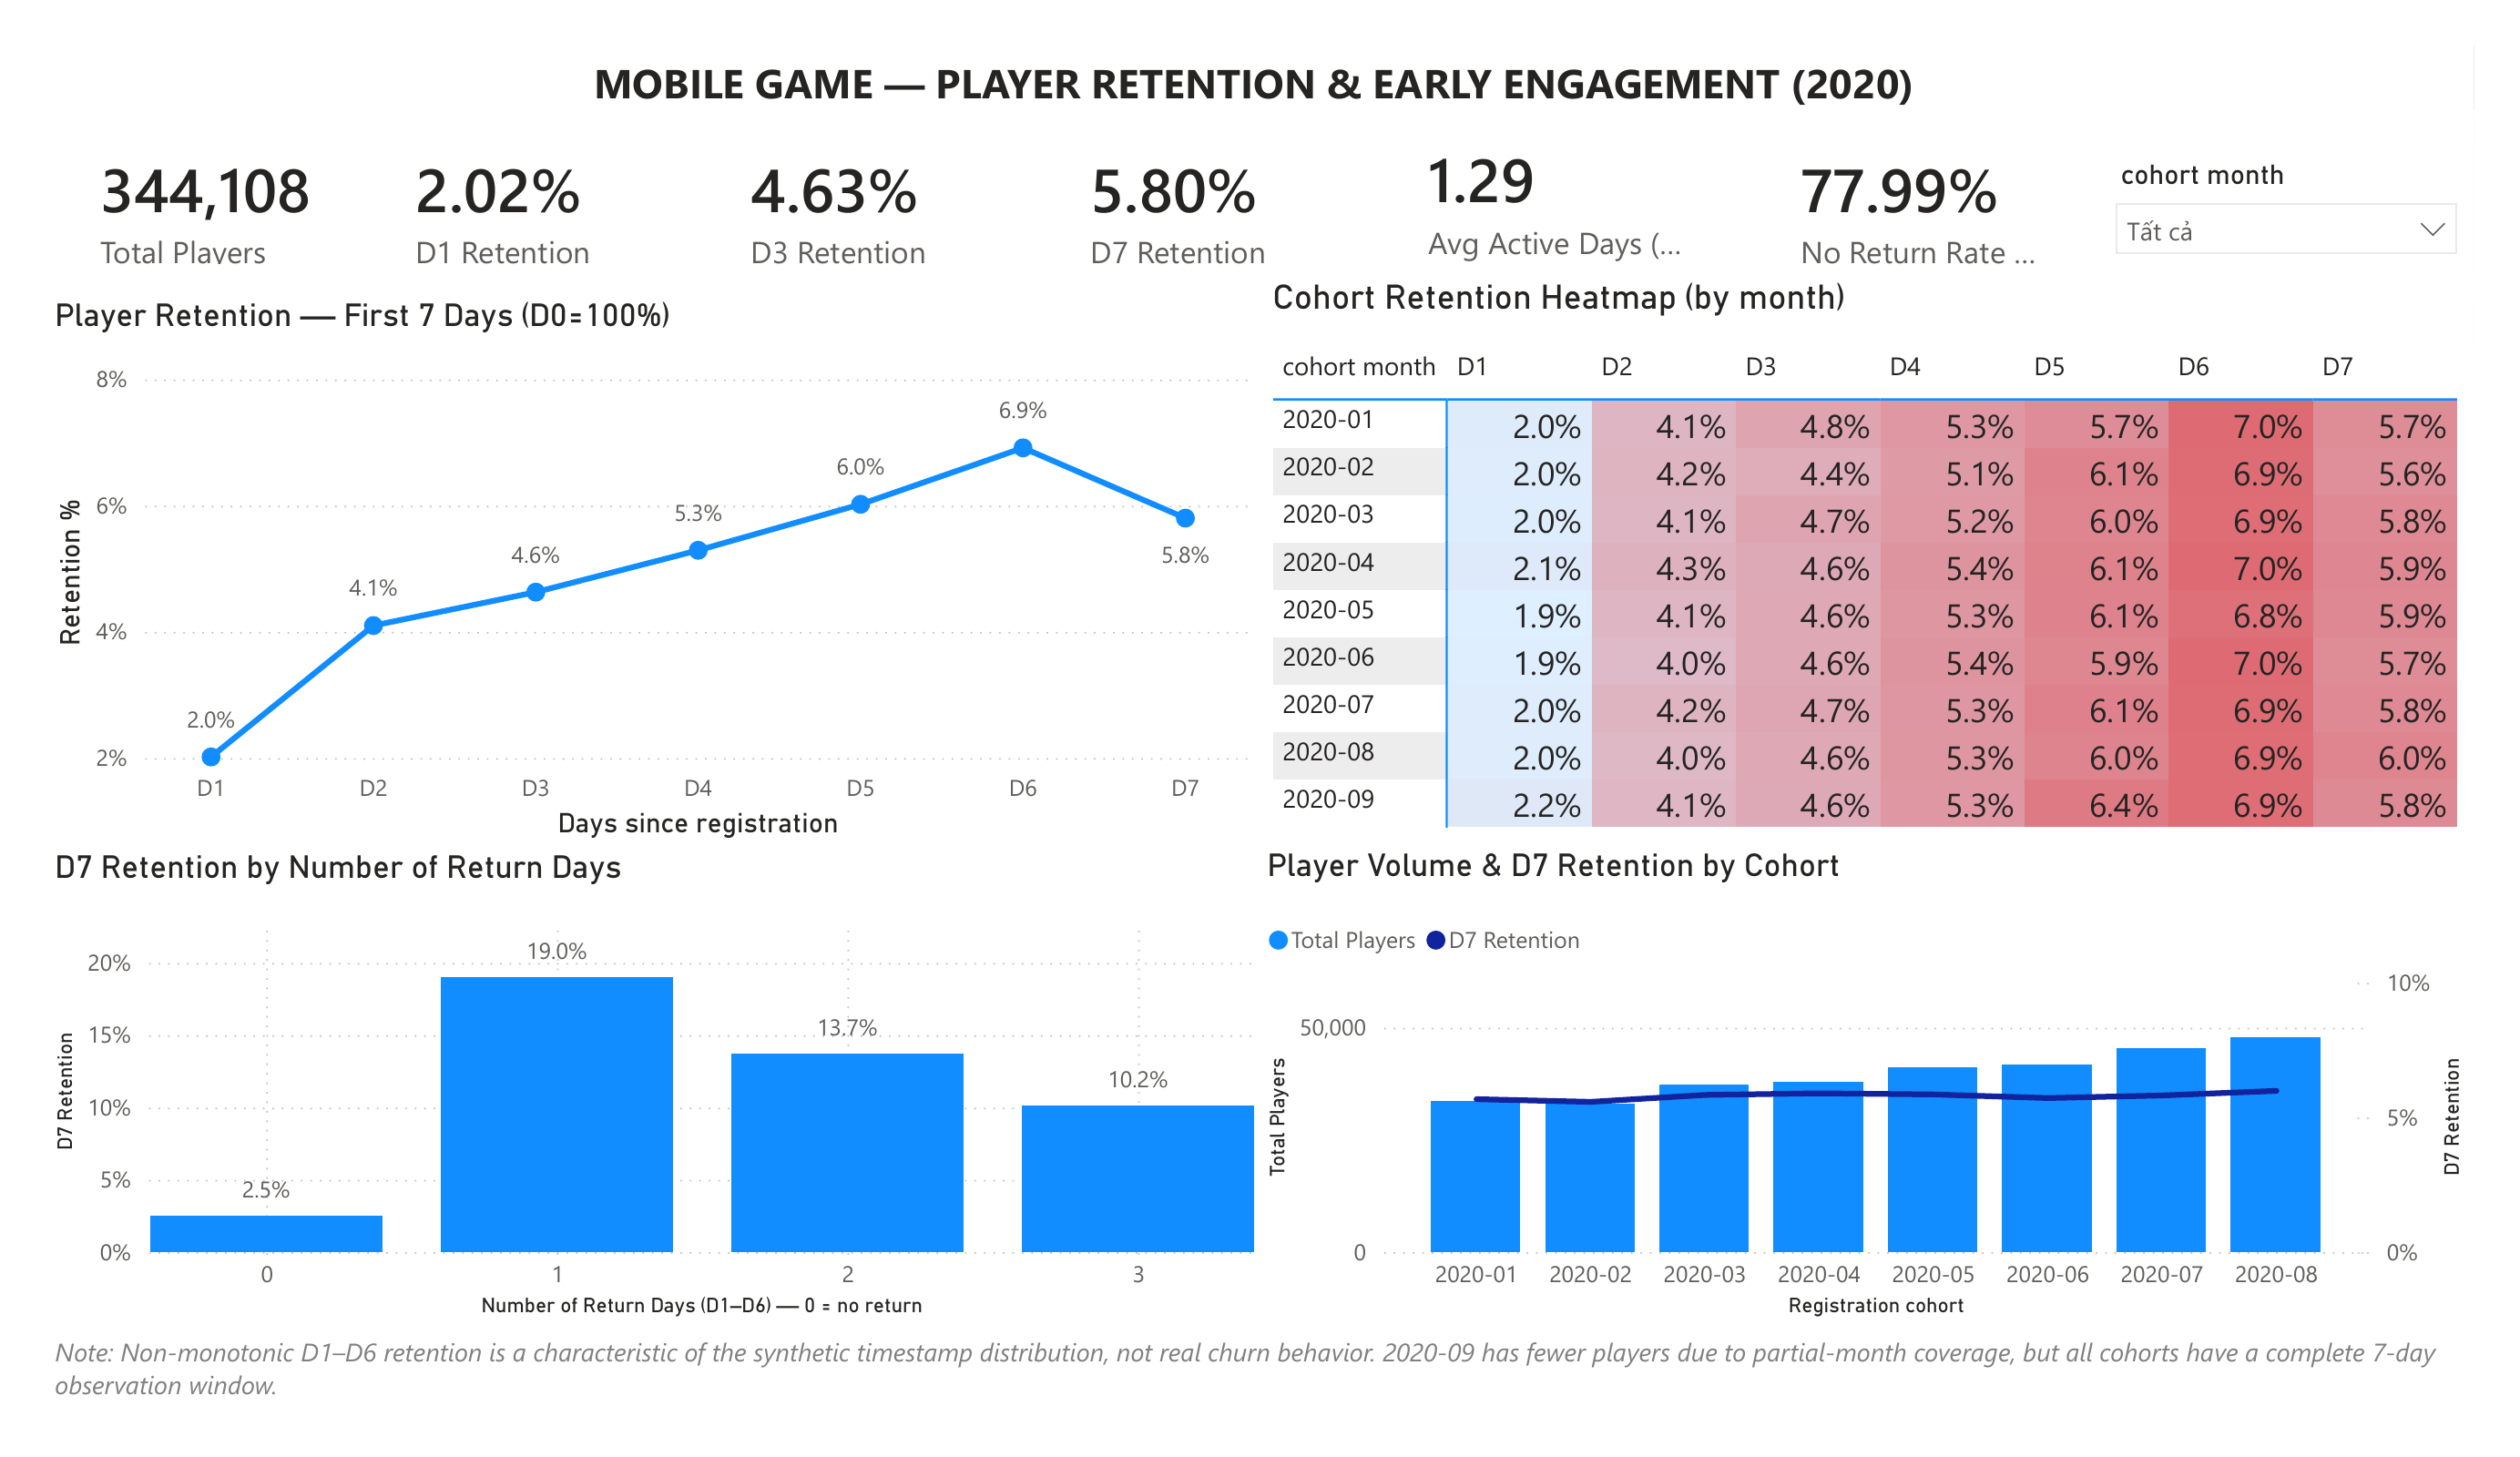

What the dashboard file says about the page in this screenshot:
{"tool":"powerbi","page":{"name":"Trang 1","canvas":[1280,720],"ordinal":0},"visuals":[{"type":"cardVisual","fields":{"Data":["1.Measure.Avg Active Days"]},"box":[701.5,40,178.5,92.3],"z":0},{"type":"cardVisual","fields":{"Data":["1.Measure.D1 Retention"]},"box":[166.2,40,176.9,92.3],"z":1000},{"type":"cardVisual","fields":{"Data":["1.Measure.D3 Retention"]},"box":[343.1,40,178.5,92.3],"z":2000},{"type":"cardVisual","fields":{"Data":["1.Measure.D7 Retention"]},"box":[521.5,40,180,92.3],"z":3000},{"type":"cardVisual","fields":{"Data":["1.Measure.No Return %"]},"box":[880,40,175.4,92.3],"z":4000},{"type":"cardVisual","fields":{"Data":["1.Measure.Total Players"]},"box":[0,40,173.8,92.3],"z":5000},{"type":"lineChart","title":"Player Retention — First 7 Days","fields":{"Y":["1.Measure.Retention %"],"Category":["first_7d_complete.day_label"]},"box":[0,132.3,640,290.8],"z":6000},{"type":"pivotTable","title":"Cohort Retention Heatmap (by month)","fields":{"Rows":["first_7d_complete.cohort_month"],"Columns":["first_7d_complete.day_label"],"Values":["1.Measure.Retention %"]},"box":[641.5,132.3,638.5,290.8],"z":7000},{"type":"clusteredColumnChart","title":"D7 Retention by Return Days (D1–D6)","fields":{"Category":["first_7d_complete.return_days_d1_d6"],"Y":["1.Measure.D7 Retention by Group"]},"box":[0,423.1,641.5,252.3],"z":8000},{"type":"textbox","box":[0,0,1280,40],"z":9000},{"type":"lineStackedColumnComboChart","fields":{"Category":["first_7d_complete.cohort_month"],"Y":["1.Measure.Total Players"],"Y2":["1.Measure.D7 Retention"]},"box":[640,423.1,638.5,252.3],"z":10000},{"type":"slicer","fields":{"Values":["first_7d_complete.cohort_month"]},"box":[1055.4,40,224.6,92.3],"z":11000},{"type":"textbox","box":[0,675.4,1278.5,44.6],"z":11001}]}

Visuals, with their boxes on the page's 1280x720 design canvas (x1, y1, x2, y2). These are canvas units, not pixel positions in the 2520x1457 screenshot, which may show the page scaled, cropped or inside an application window:
cardVisual - 1.Measure.Avg Active Days: left=702, top=40, right=880, bottom=132
cardVisual - 1.Measure.D1 Retention: left=166, top=40, right=343, bottom=132
cardVisual - 1.Measure.D3 Retention: left=343, top=40, right=522, bottom=132
cardVisual - 1.Measure.D7 Retention: left=522, top=40, right=702, bottom=132
cardVisual - 1.Measure.No Return %: left=880, top=40, right=1055, bottom=132
cardVisual - 1.Measure.Total Players: left=0, top=40, right=174, bottom=132
"Player Retention — First 7 Days" lineChart: left=0, top=132, right=640, bottom=423
"Cohort Retention Heatmap (by month)" pivotTable: left=642, top=132, right=1280, bottom=423
"D7 Retention by Return Days (D1–D6)" clusteredColumnChart: left=0, top=423, right=642, bottom=675
textbox: left=0, top=0, right=1280, bottom=40
lineStackedColumnComboChart - first_7d_complete.cohort_month x 1.Measure.Total Players: left=640, top=423, right=1278, bottom=675
slicer - first_7d_complete.cohort_month: left=1055, top=40, right=1280, bottom=132
textbox: left=0, top=675, right=1278, bottom=720
